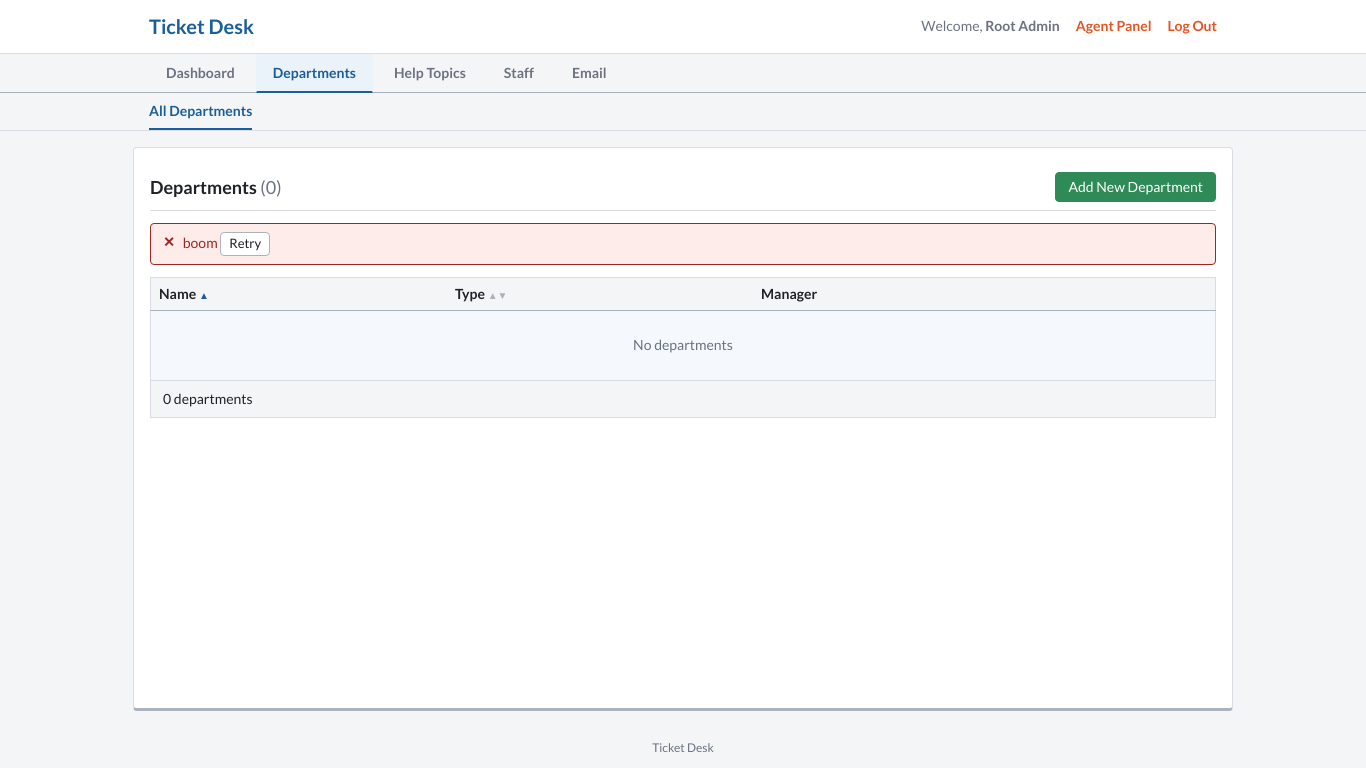
Scenario: as admin › a failed department list shows a retryable banner
Expected: the message shows "boom", [183, 234, 218, 251]
Click the button "Retry".
click(245, 244)  # box [220, 232, 270, 256]
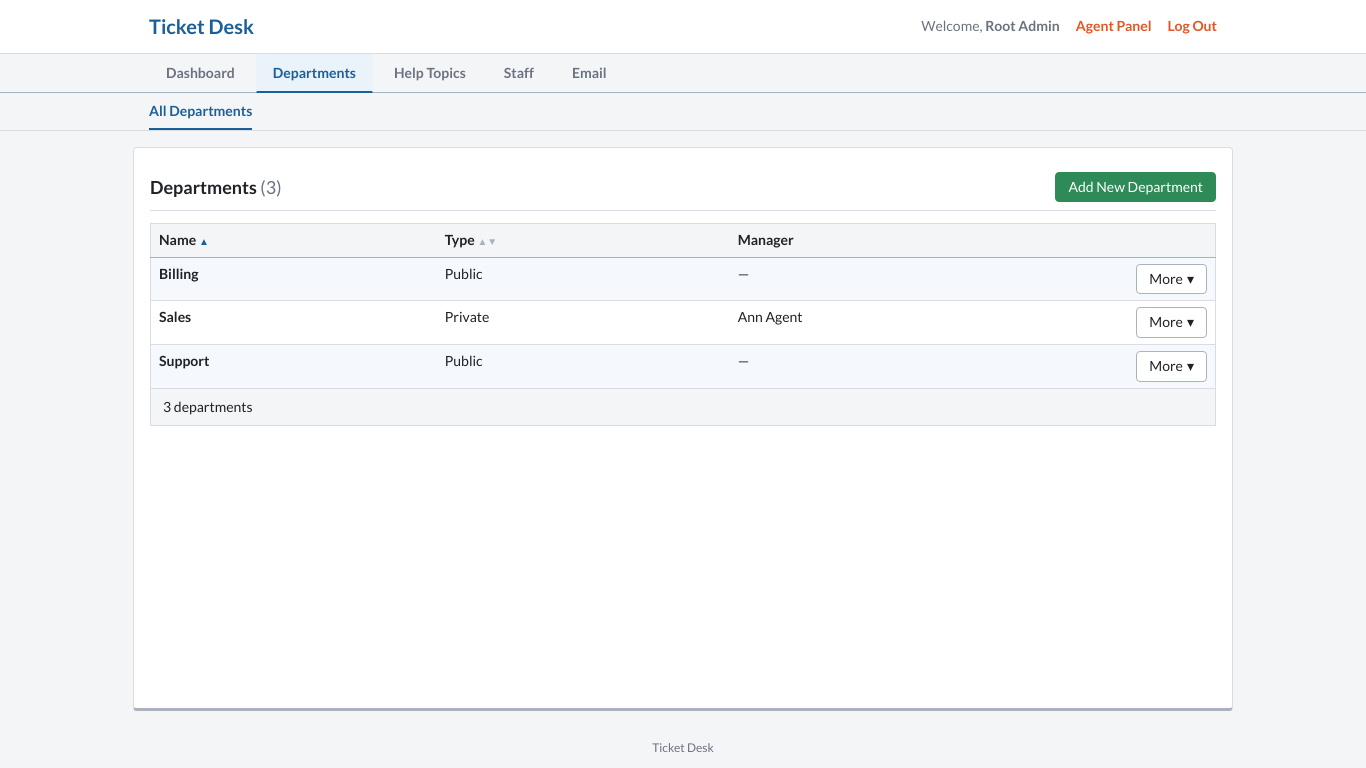
Expected: the link "Sales" is shown, [159, 308, 191, 326]
